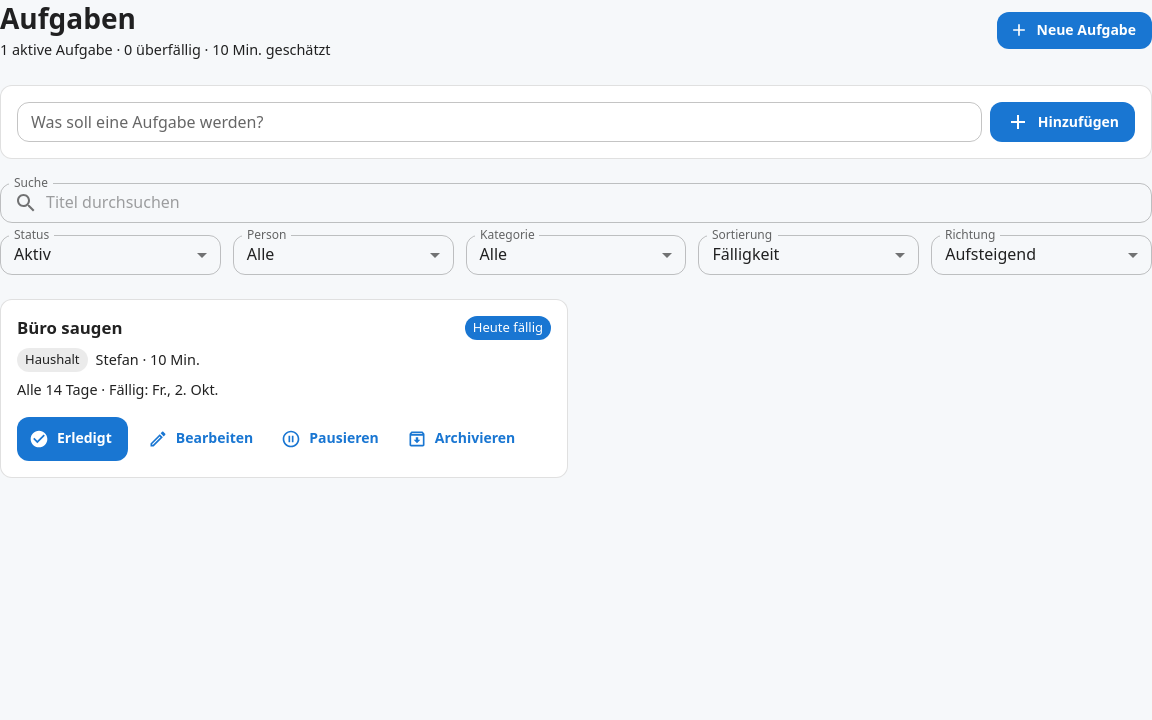
pause and resume on the Tenners page › pauses open-ended and rejects past dates in the dialog
Click the button with aria-label "„Büro saugen“ pausieren".
click(332, 439)  # box [277,420,387,457]
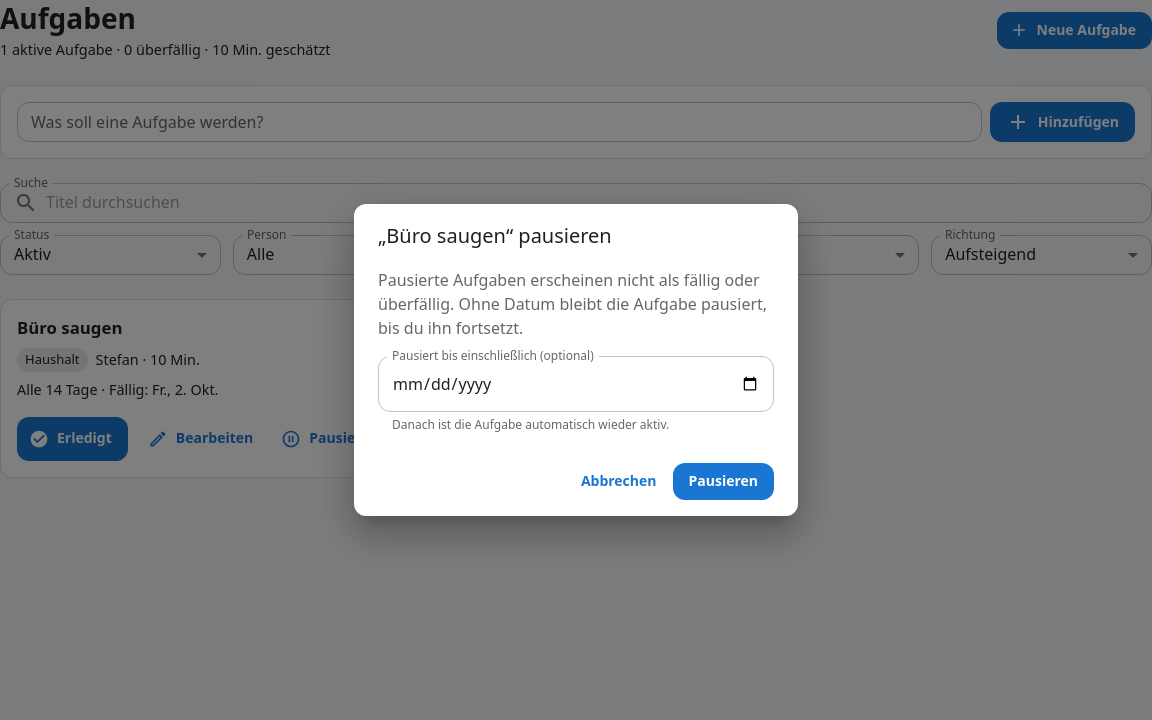
Type "2026-10-02" into the date field labelled "Pausiert bis einschließlich (optional)".
click(576, 384); type("2026-10-02")  # box [378,356,774,412]
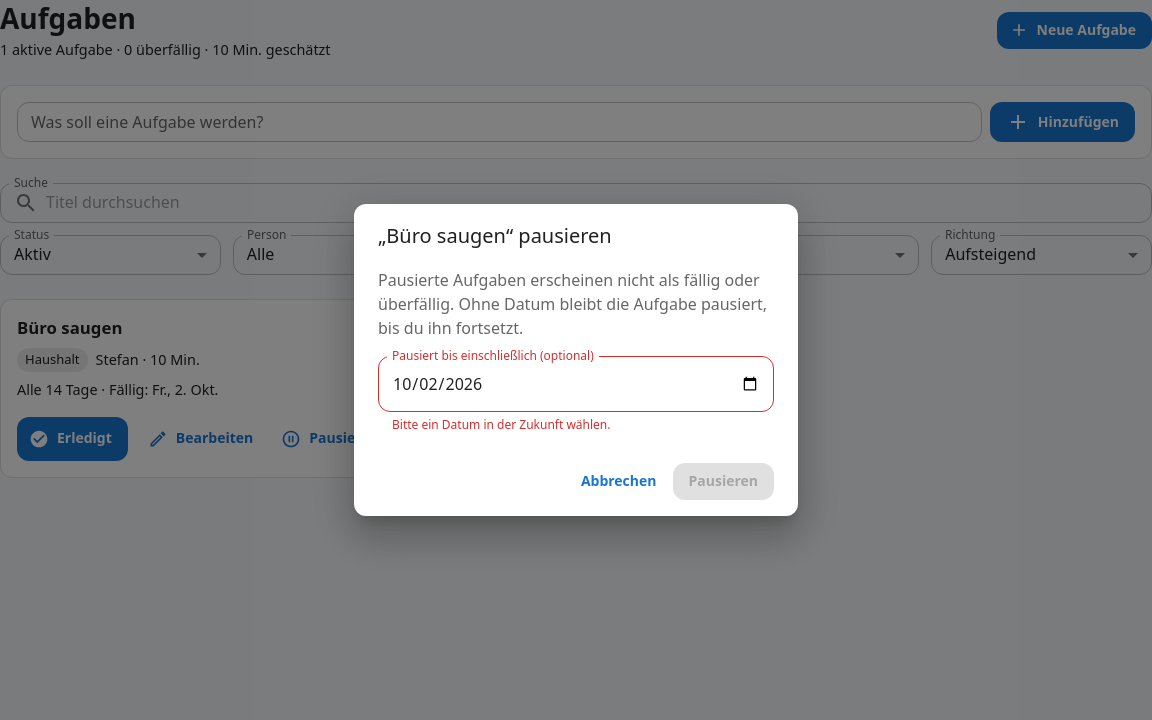
Check: the button "Pausieren" is disabled, box [672,463,774,500]
Clear the date field labelled "Pausiert bis einschließlich (optional)" at (576,384), box [378,356,774,412]
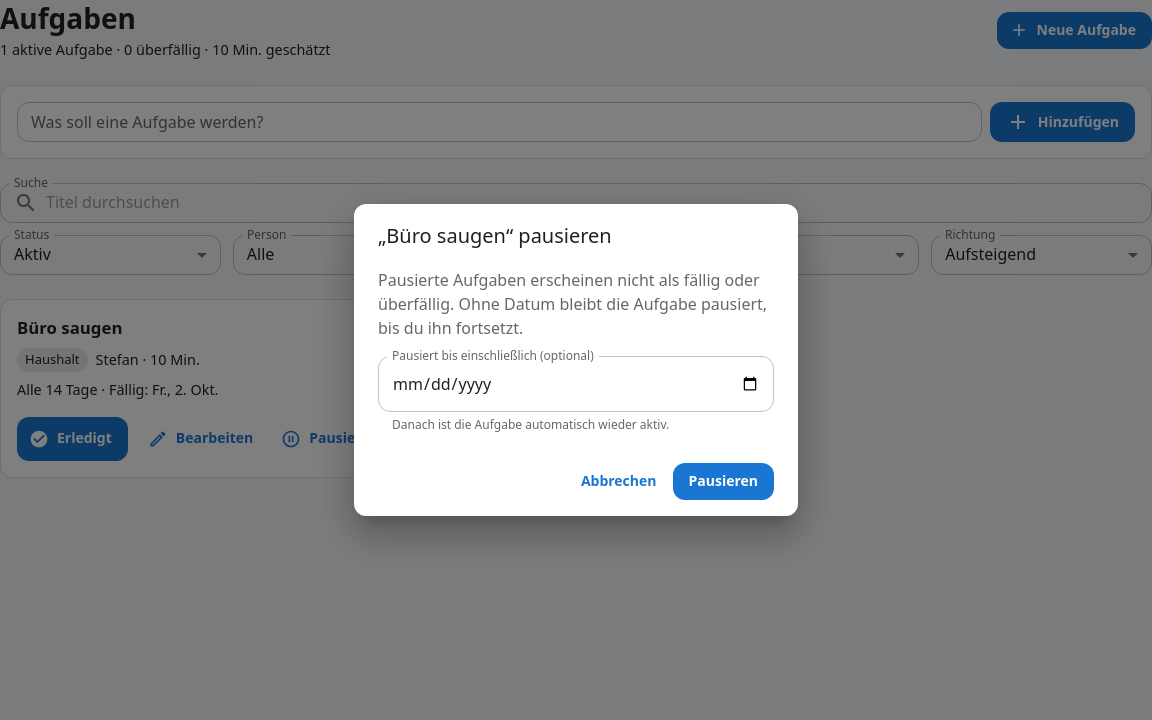
Click the button "Pausieren".
click(723, 481)  # box [672,463,774,500]
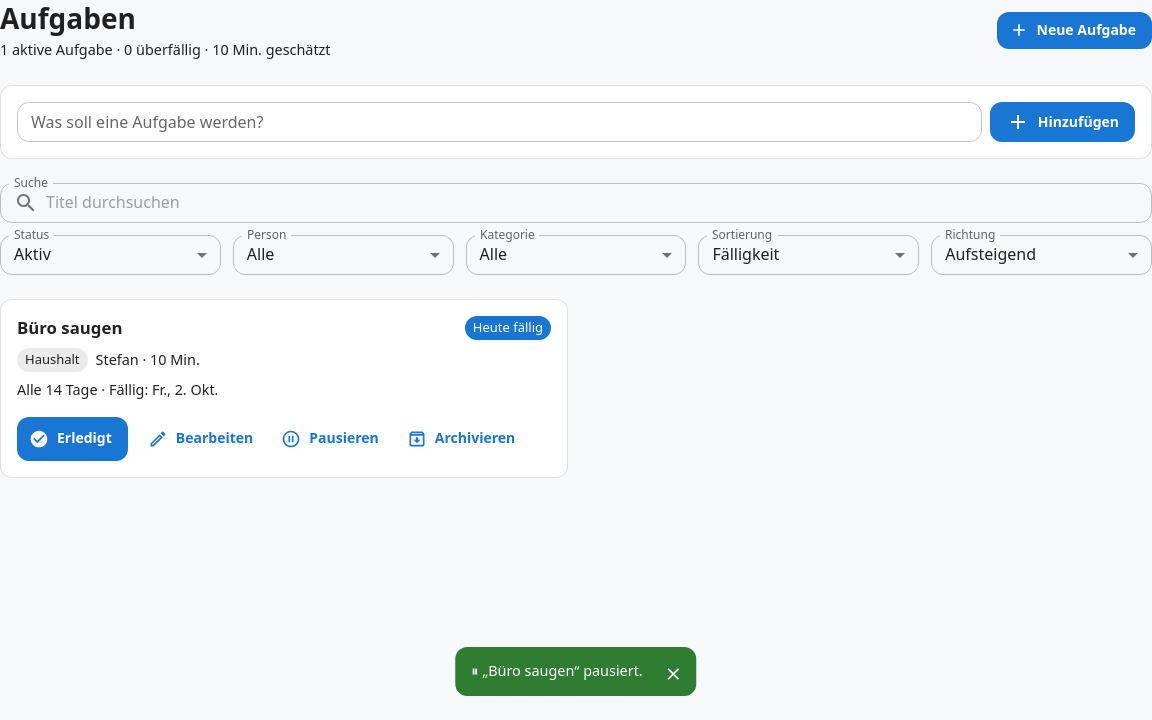
Check: the text "⏸ „Büro saugen“ pausiert." is shown, box [471,661,643,680]
